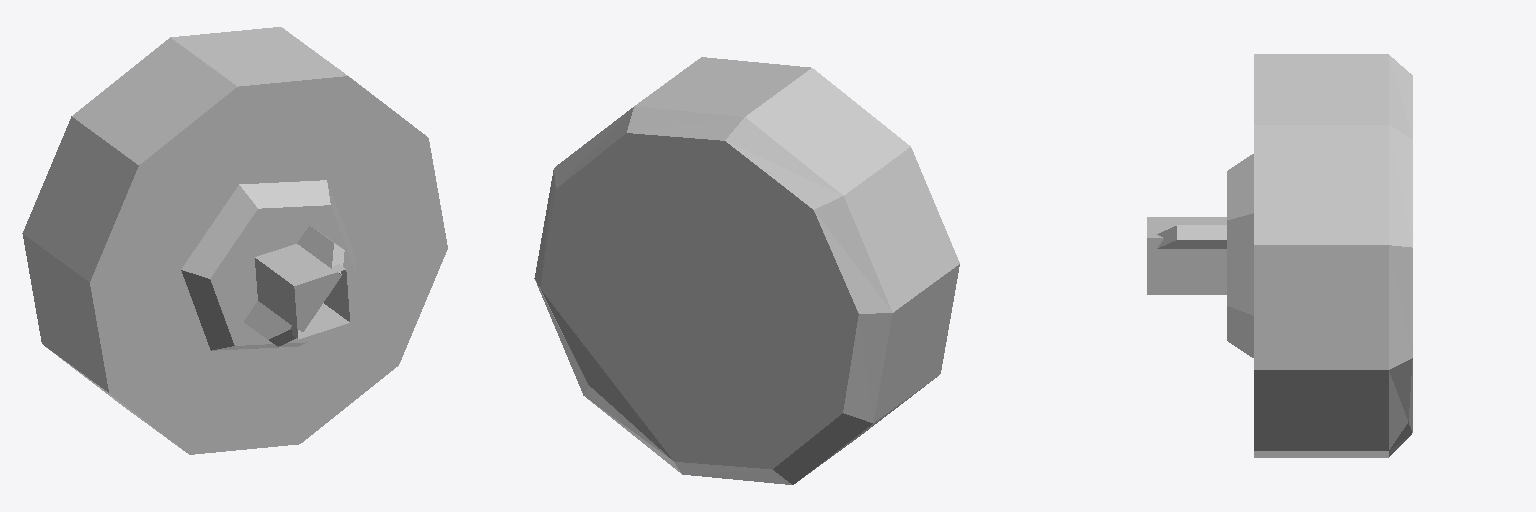
The model's file is wheel185.obj.
3 renders of one model, left to right at view 1: azimuth 30°, elevation 25°; view 2: azimuth 150°, elevation 25°; view 3: azimuth 270°, elevation 25°, orthographic.
Parts seen in each view (by area): view 1: wheel_low_textures; view 2: wheel_low_textures; view 3: wheel_low_textures.
Boxes of the visible parts, x1=… form: wheel_low_textures: x1=22, y1=27, x2=447, y2=454; wheel_low_textures: x1=534, y1=57, x2=959, y2=484; wheel_low_textures: x1=1147, y1=54, x2=1412, y2=457.
Size of the model in its own units: 1.55 by 1.54 by 0.9907.